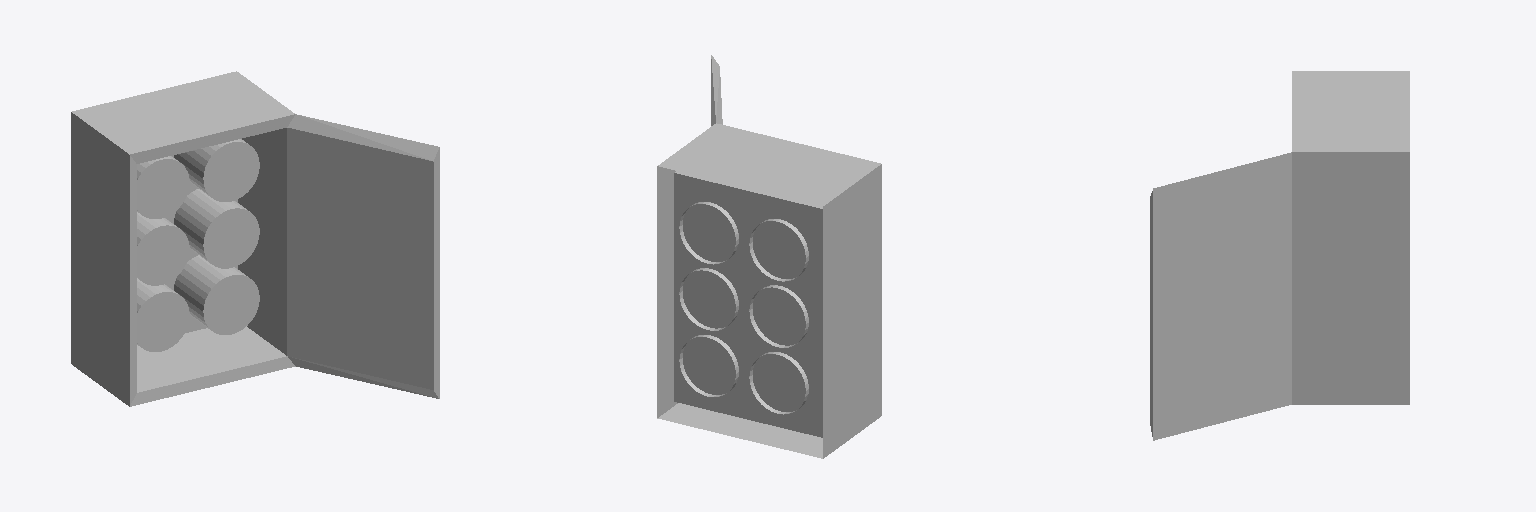
Rendered from Wire.obj.
3 views of the same model, side by side, from view 1: azimuth 30°, elevation 25°; view 2: azimuth 150°, elevation 25°; view 3: azimuth 270°, elevation 25° (orthographic).
Visible parts, largest first — view 1: Cube, Cylinder.003, Cylinder.004, Cylinder, Cylinder.002, Cylinder.005, Cylinder.001; view 2: Cube; view 3: Cube.
Part boxes in pixels (bbox=[...]): Cube: bbox=[71, 71, 439, 406]; Cylinder.003: bbox=[174, 189, 259, 268]; Cylinder.004: bbox=[174, 255, 259, 334]; Cylinder: bbox=[174, 139, 259, 201]; Cylinder.002: bbox=[137, 212, 189, 285]; Cylinder.005: bbox=[137, 278, 189, 351]; Cylinder.001: bbox=[137, 156, 189, 218]; Cube: bbox=[657, 55, 881, 458]; Cube: bbox=[1150, 71, 1409, 440].
Bounding box in the file's own units: 2.2 × 2.21 × 2.05.